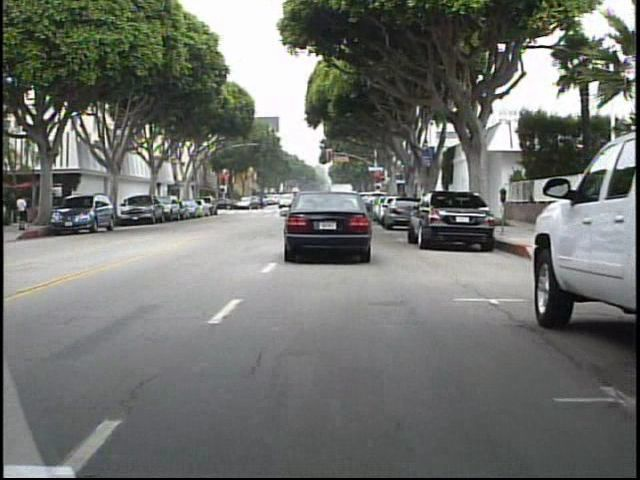person: (17, 192, 35, 235), (257, 191, 270, 215)
